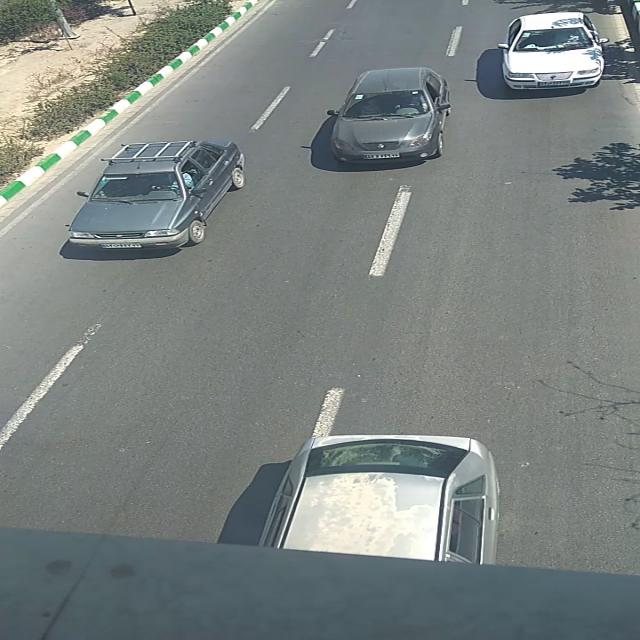car: (255, 437, 510, 565), (70, 141, 246, 247), (327, 68, 451, 168), (497, 13, 608, 91)
